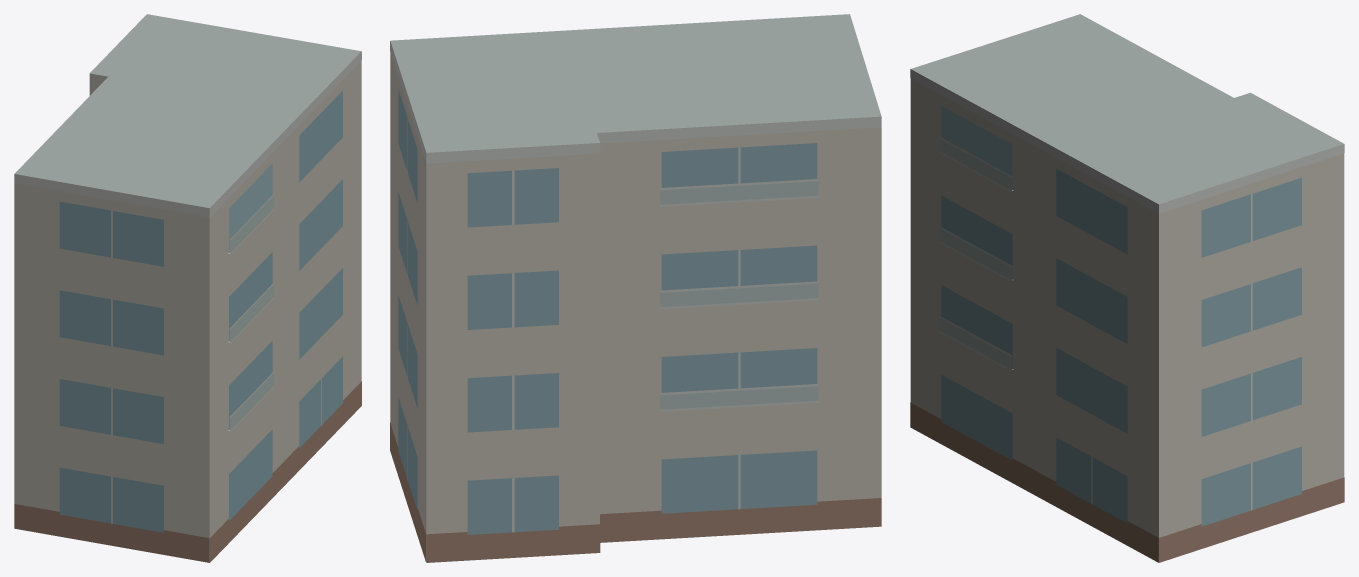
File: survey-upis-32922054.glb
The picture shows the model from 3 angles, left to right: view 1: azimuth 30°, elevation 25°; view 2: azimuth 150°, elevation 25°; view 3: azimuth 270°, elevation 25°; orthographic projection. The views are drawn at different scales.
Visible parts, largest first — view 1: survey-upis-32922054.tmp; view 2: survey-upis-32922054.tmp; view 3: survey-upis-32922054.tmp.
Part boxes in pixels (box(x1,y1,x2,y2)): survey-upis-32922054.tmp: box(14, 14, 361, 562); survey-upis-32922054.tmp: box(390, 14, 881, 562); survey-upis-32922054.tmp: box(910, 14, 1344, 562).
Bounding box in the file's own units: 10.61 × 9.3 × 10.21.
